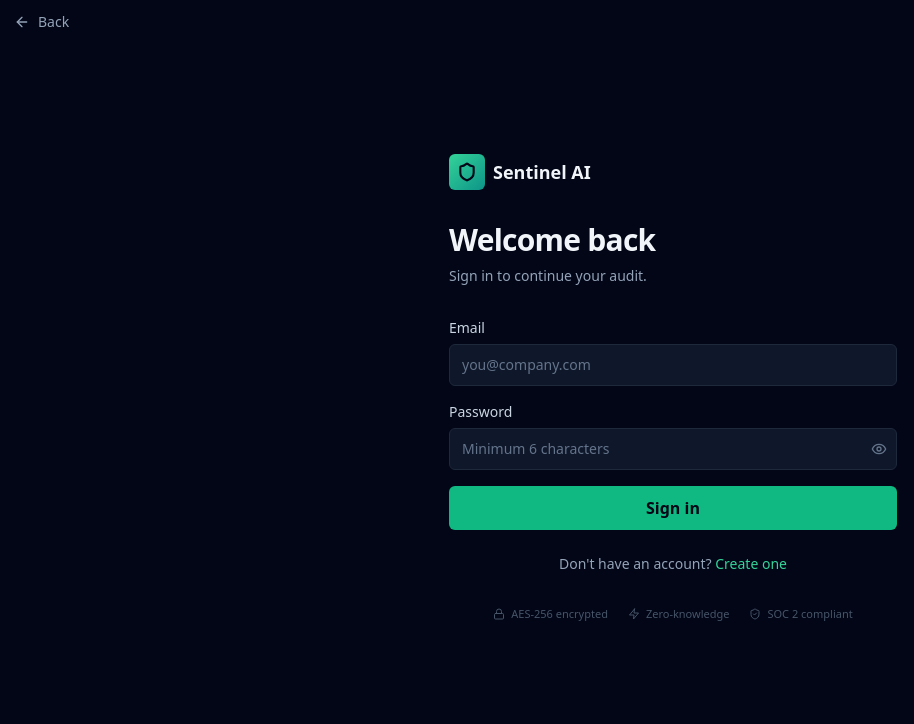
it: Auth — Sign Up mode › shows password strength bar in signup mode
Click the button "Create one". click: (751,564)
box: [715,554,787,574]
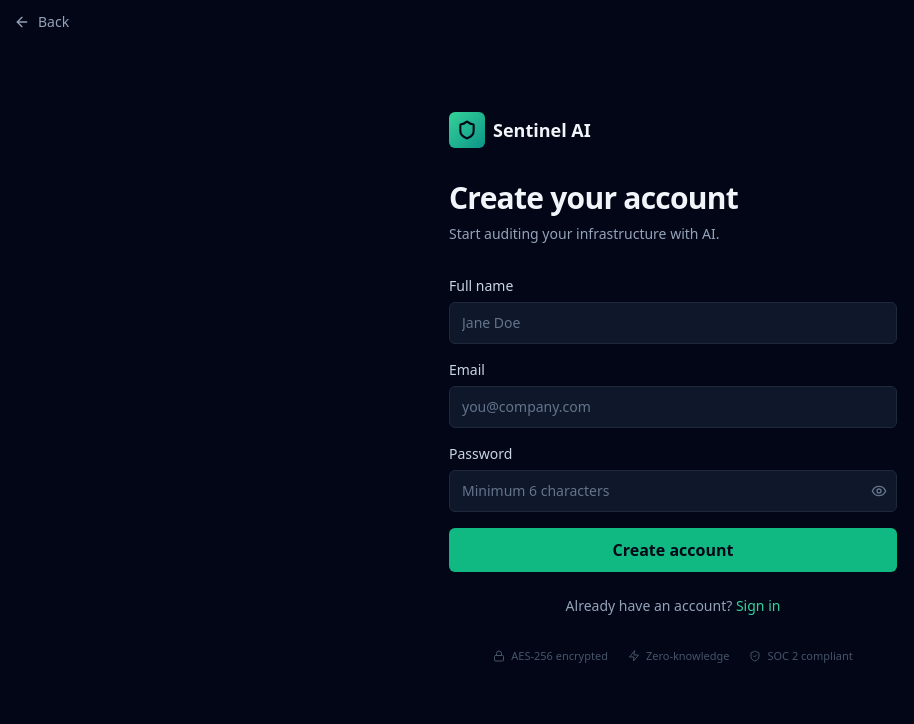
Type "abc" into the password field with placeholder "Minimum 6 characters". click: (673,491)
box: [449,470,897,512]
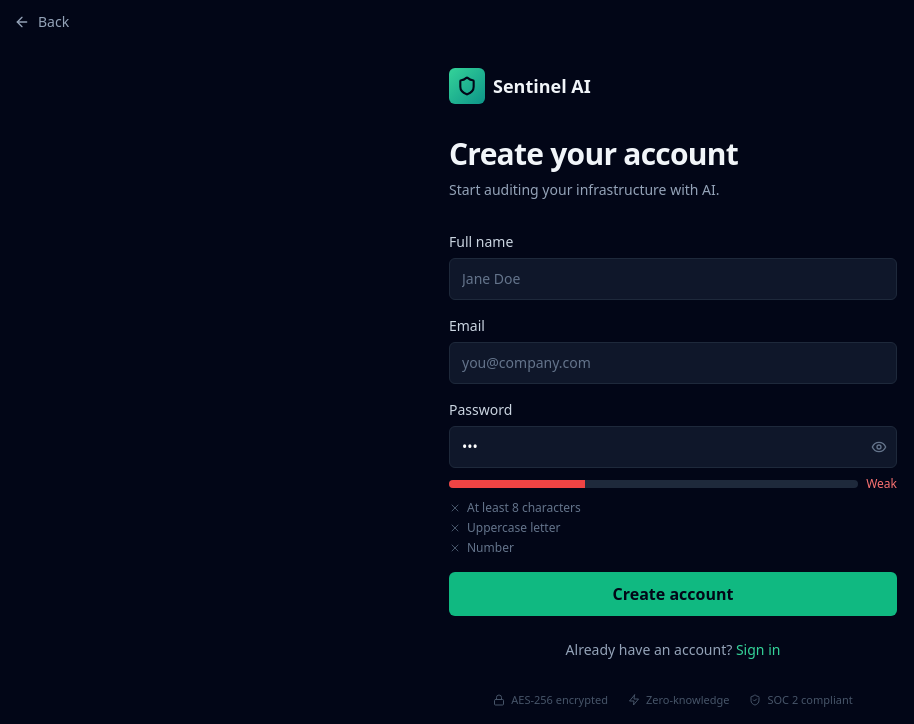
Expected: the text "At least 8 characters" is shown, [449,499,581,516]
